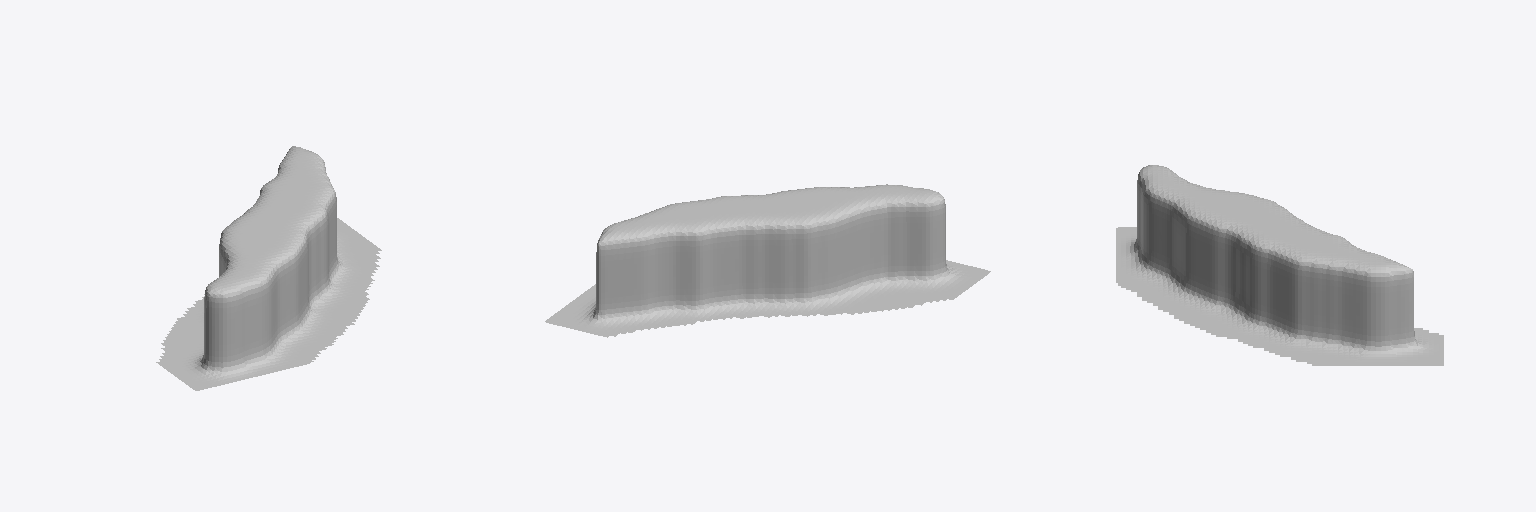
File: mesa3.obj
The picture shows the model from 3 angles: view 1: azimuth 30°, elevation 25°; view 2: azimuth 150°, elevation 25°; view 3: azimuth 270°, elevation 25°; orthographic projection.
Parts seen in each view (by area): view 1: Plane; view 2: Plane; view 3: Plane.
Boxes of the visible parts, box(x1,y1,x2,y2) form: Plane: box(156, 146, 381, 390); Plane: box(545, 184, 990, 337); Plane: box(1116, 165, 1443, 365).
Bounding box in the file's own units: 34.74 × 9.51 × 34.74.